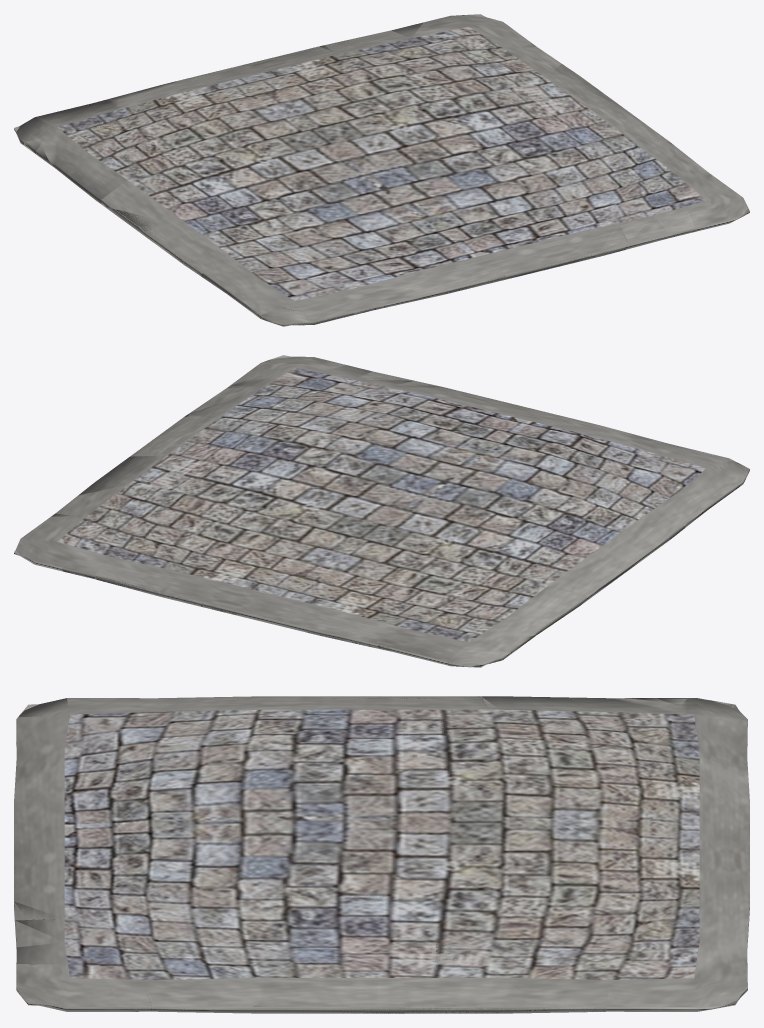
File: plate02_100.fbx
The picture shows the model from 3 angles, top to bottom: view 1: azimuth 30°, elevation 25°; view 2: azimuth 150°, elevation 25°; view 3: azimuth 270°, elevation 25°; orthographic projection. The views are drawn at different scales.
Visible parts, largest first — view 1: Cube, Cube_cell.011, Cube_cell.024, Cube_cell.036, Cube_cell.039, Cube_cell.056, Cube_cell.009, Cube_cell.013, Cube_cell.063, Cube_cell.053, Cube_cell.046, Cube_cell.077 (+18 smaller); view 2: Cube, Cube_cell.011, Cube_cell.036, Cube_cell.056, Cube_cell.039, Cube_cell.046, Cube_cell.048, Cube_cell.013, Cube_cell.053, Cube_cell.076, Cube_cell.009, Cube_cell.022 (+17 smaller); view 3: Cube, Cube_cell.011, Cube_cell.036, Cube_cell.056, Cube_cell.020, Cube_cell.053, Cube_cell.046, Cube_cell.063, Cube_cell.039, Cube_cell.024, Cube_cell.048, Cube_cell.013 (+19 smaller).
Boxes of the visible parts, x1,y1,x2,y2 form: Cube: (15,14,749,326); Cube_cell.011: (299,74,450,132); Cube_cell.024: (416,105,526,169); Cube_cell.036: (362,46,487,106); Cube_cell.039: (41,129,145,203); Cube_cell.056: (162,90,290,139); Cube_cell.009: (323,123,429,184); Cube_cell.013: (101,177,208,226); Cube_cell.063: (172,155,321,185); Cube_cell.053: (463,79,587,116); Cube_cell.046: (179,65,304,94); Cube_cell.077: (217,129,316,166); Cube: (14,355,749,667); Cube_cell.011: (217,499,365,563); Cube_cell.036: (130,496,240,566); Cube_cell.056: (325,546,436,607); Cube_cell.039: (470,580,586,644); Cube_cell.046: (242,568,329,626); Cube_cell.048: (310,600,434,637); Cube_cell.013: (526,537,610,594); Cube_cell.053: (148,453,232,500); Cube_cell.076: (376,619,472,661); Cube_cell.009: (326,481,458,535); Cube_cell.022: (161,551,260,590); Cube: (14,696,749,1013); Cube_cell.011: (452,817,631,905); Cube_cell.036: (471,887,698,942); Cube_cell.056: (516,758,696,813); Cube_cell.020: (396,960,544,1013); Cube_cell.053: (375,913,518,979); Cube_cell.046: (642,800,749,855); Cube_cell.063: (369,730,501,800); Cube_cell.039: (482,696,686,722); Cube_cell.024: (288,857,470,917); Cube_cell.048: (624,744,740,808); Cube_cell.013: (336,696,493,727).
Bounding box in the file's own units: 401 × 20.47 × 402.
